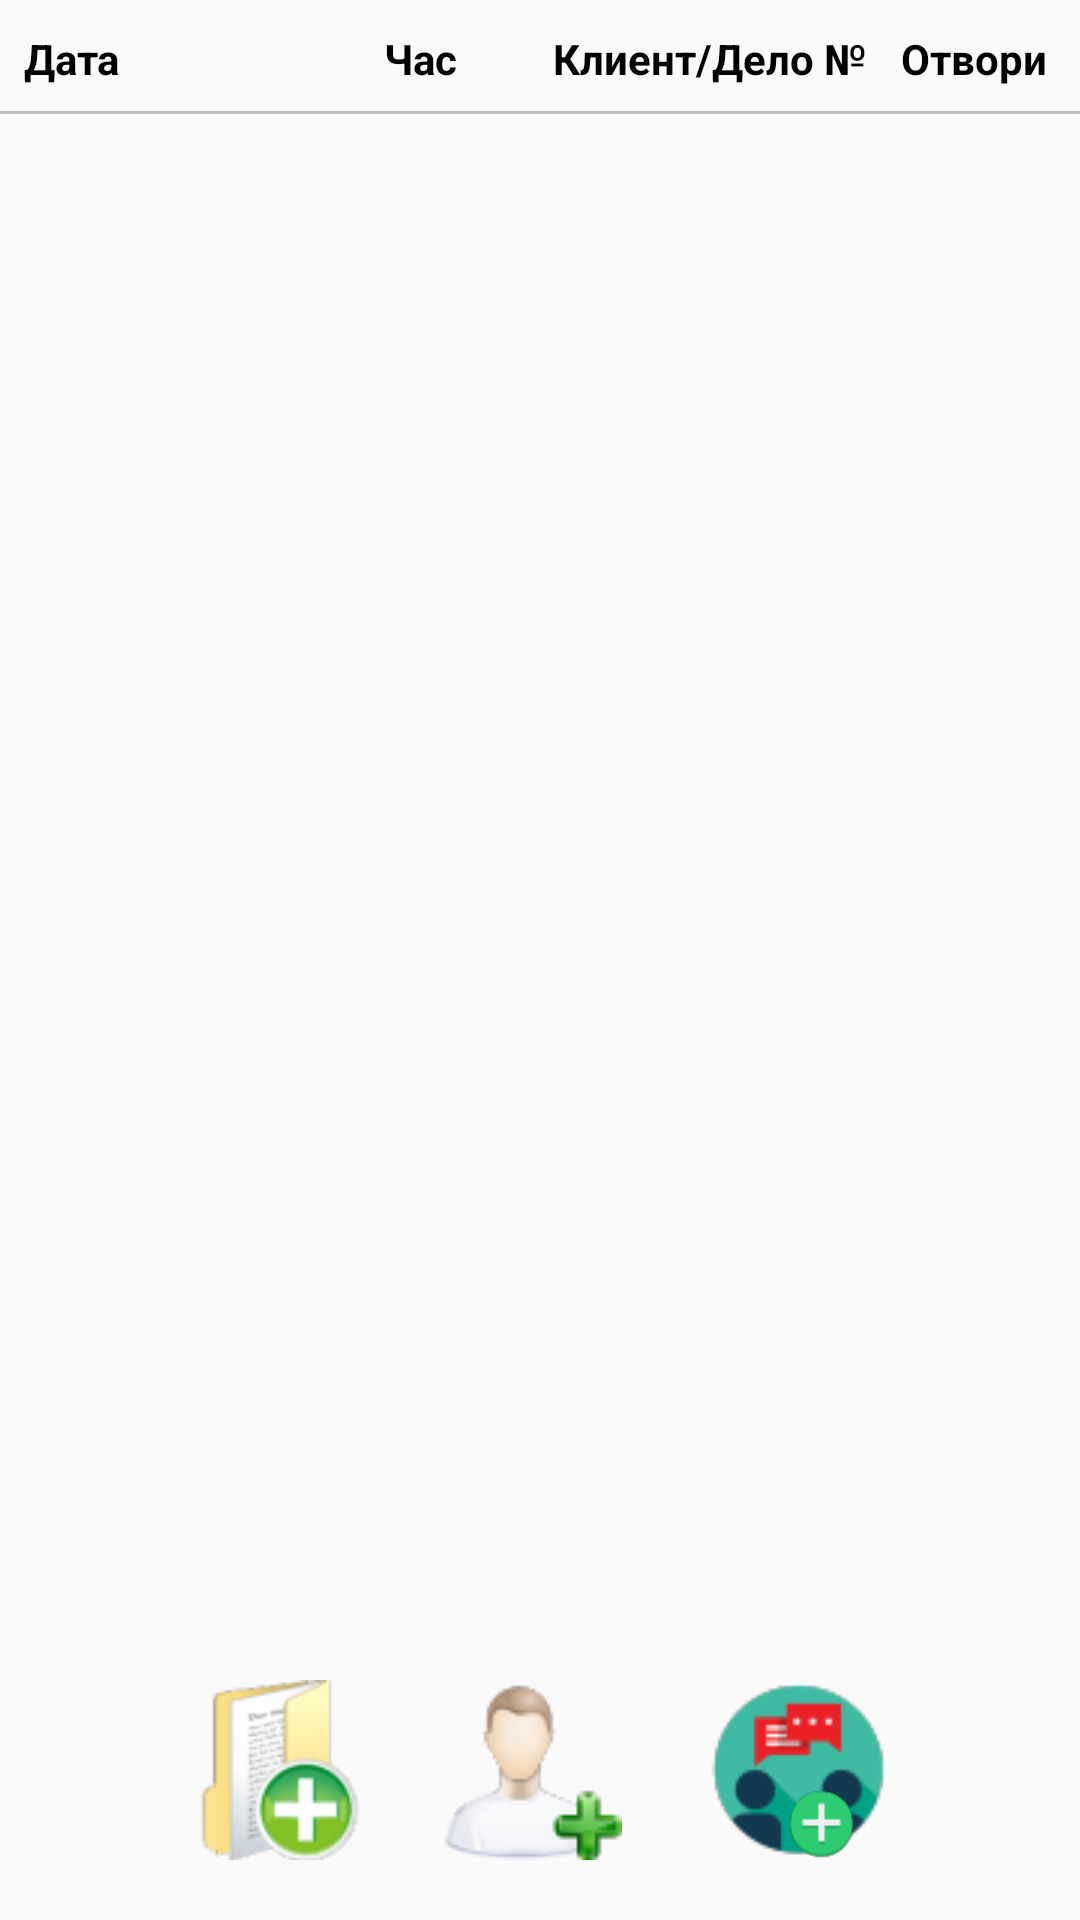

Named icons in this screenshot (1080px x 1920px) and their centers, (x,y):
addcase: (279,1770)
addclient: (534,1772)
